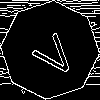V: (25, 25, 80, 81)
